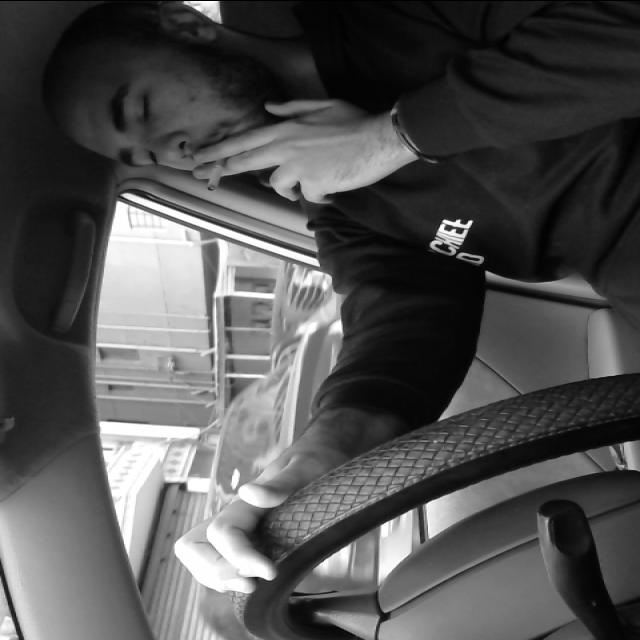smoking: (197, 144, 240, 192)
